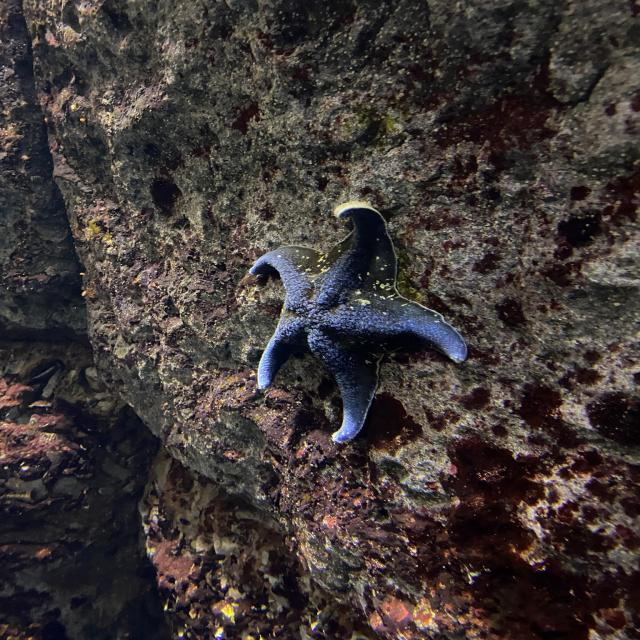starfish: (249, 202, 467, 443)
